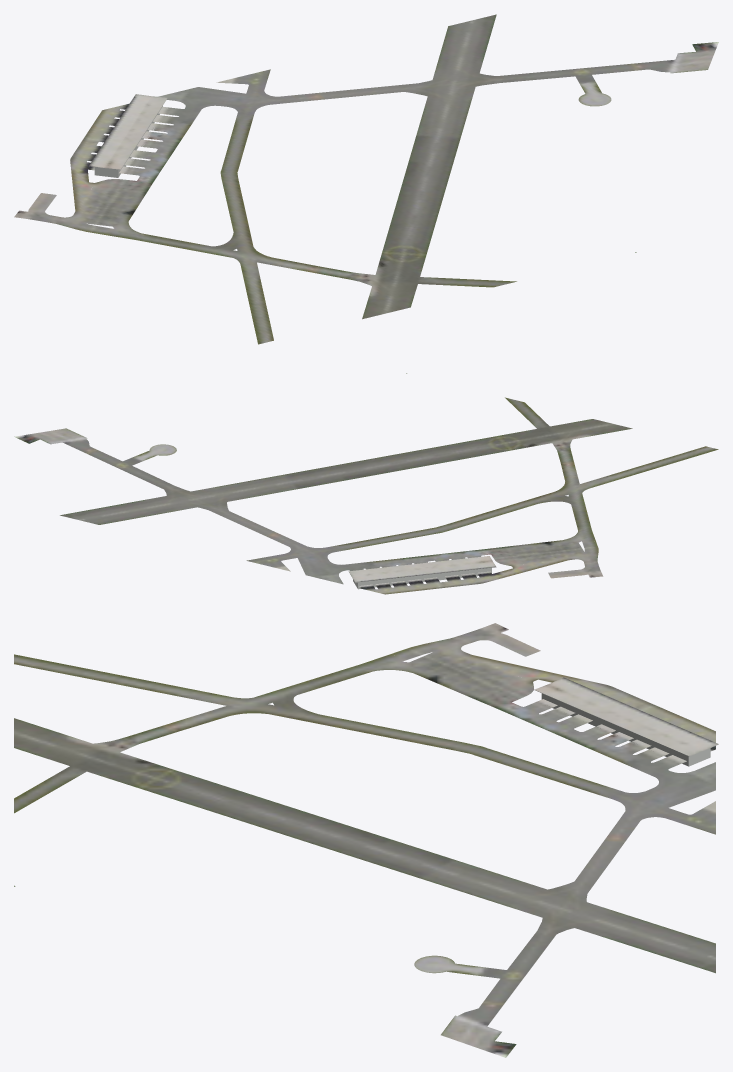
File: LSME_-1_-1.glb
3 views of the same model, one above another, from view 1: azimuth 30°, elevation 25°; view 2: azimuth 150°, elevation 25°; view 3: azimuth 270°, elevation 25° (orthographic). The views are drawn at different scales.
Visible parts, largest first — view 1: pavement_LSME_pavement_5330_2431, pavement_LSME_pavement_5331_2431, building_655ce8c289e43af6; view 2: pavement_LSME_pavement_5330_2431, pavement_LSME_pavement_5331_2431, building_655ce8c289e43af6, building_3bb179e5241362aa; view 3: pavement_LSME_pavement_5330_2431, pavement_LSME_pavement_5331_2431, building_655ce8c289e43af6, building_3bb179e5241362aa.
Part boxes in pixels (<box>): pavement_LSME_pavement_5330_2431: <box>14,75,516,344</box>; pavement_LSME_pavement_5331_2431: <box>246,14,718,252</box>; building_655ce8c289e43af6: <box>89,94,167,169</box>; pavement_LSME_pavement_5330_2431: <box>266,397,718,594</box>; pavement_LSME_pavement_5331_2431: <box>14,373,423,565</box>; building_655ce8c289e43af6: <box>348,556,496,582</box>; building_3bb179e5241362aa: <box>353,568,491,589</box>; pavement_LSME_pavement_5330_2431: <box>14,623,715,819</box>; pavement_LSME_pavement_5331_2431: <box>14,819,715,1057</box>; building_655ce8c289e43af6: <box>534,677,718,756</box>; building_3bb179e5241362aa: <box>541,693,710,766</box>.
Bounding box in the file's own units: 731 × 10.54 × 502.
3 materials, 2 textured.
